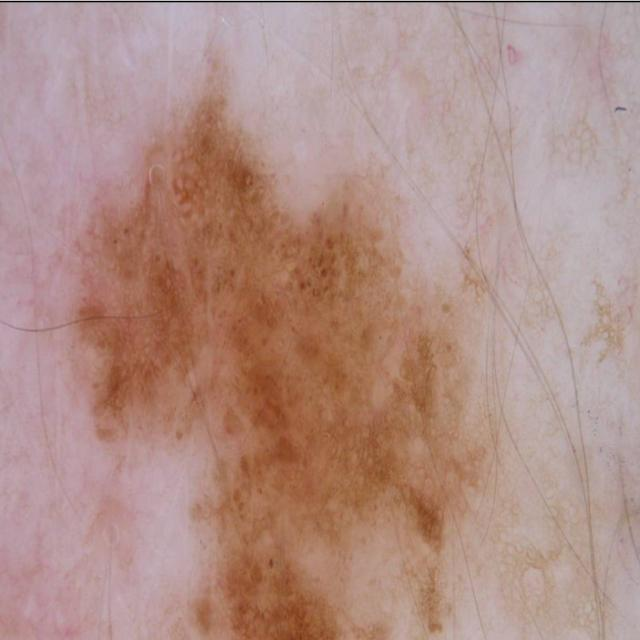Melanoma: (56, 66, 514, 640)
